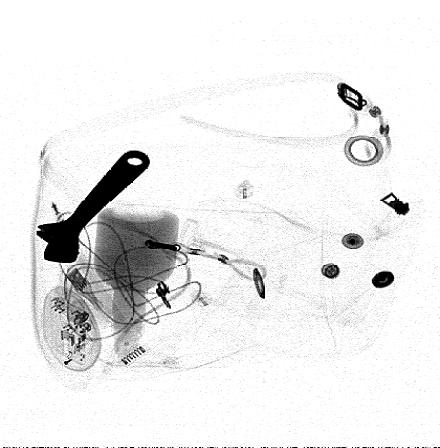Wrench: (34, 148, 150, 264)
